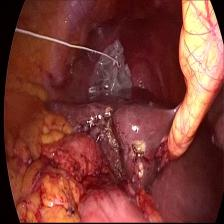Specimen Bag: (82, 36, 136, 103)
